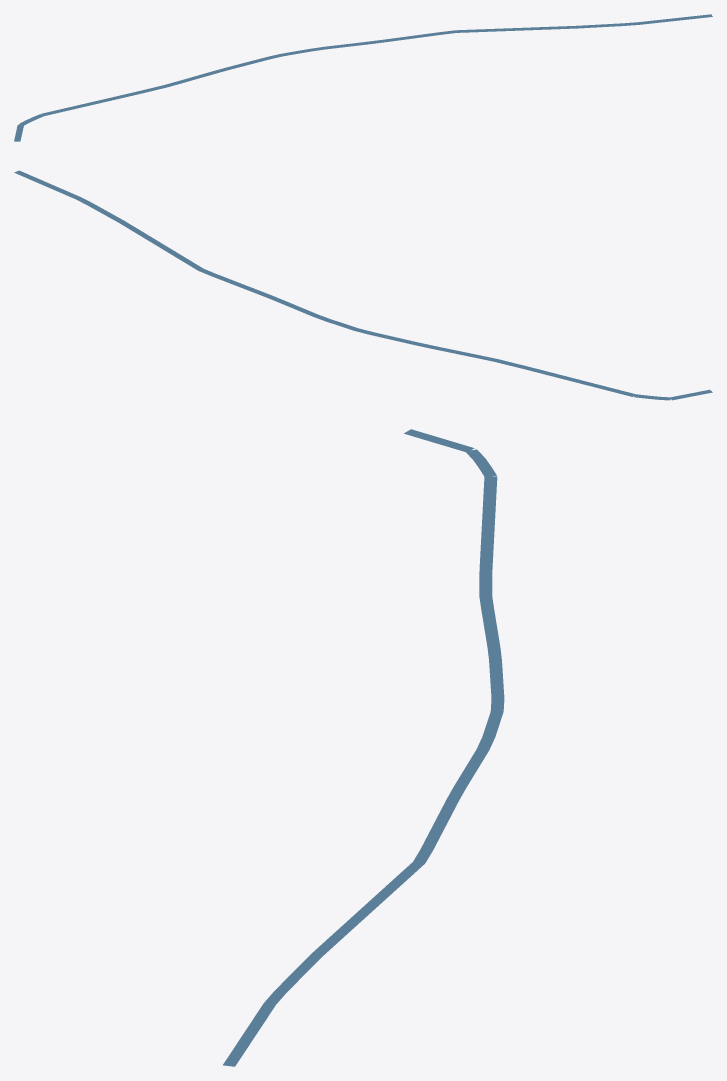
File: c_1641_17835_water.glb
3 views of the same model, one above another, from view 1: azimuth 30°, elevation 25°; view 2: azimuth 150°, elevation 25°; view 3: azimuth 270°, elevation 25° (orthographic). The views are drawn at different scales.
Parts seen in each view (by area): view 1: geometry_0; view 2: geometry_0; view 3: geometry_0.
Boxes of the visible parts, left/top/right/bottom form: geometry_0: left=14, top=14, right=712, bottom=141; geometry_0: left=14, top=170, right=712, bottom=400; geometry_0: left=223, top=429, right=504, bottom=1066.
Size of the model in its own units: 291 by 0 by 54.42.
